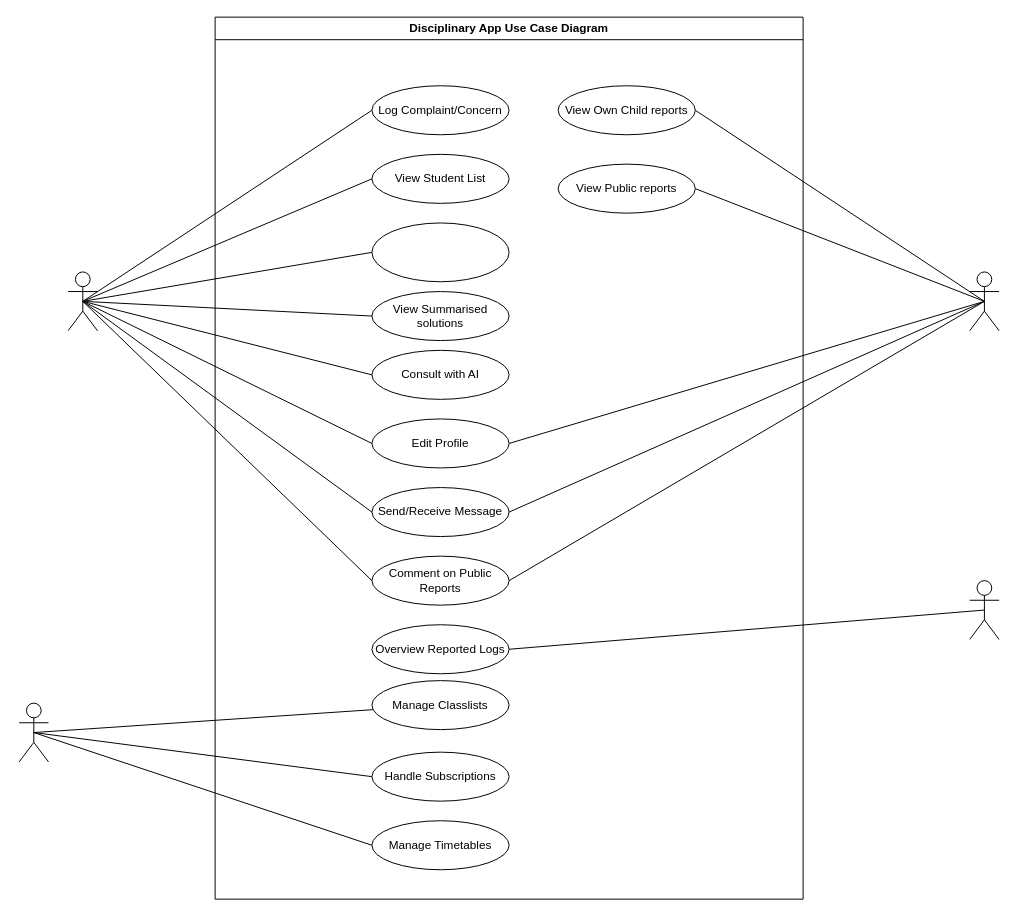
The diagram is 1021 pixels wide and 916 high, and some of its shapes have lost their labels. Each missing label, with the centre of its shape:
"Admin" belongs at (x=33, y=732).
"Parent" belongs at (x=984, y=301).
"Principal" belongs at (x=984, y=609).
"Select distribution method (Parent/Global/Both)" belongs at (x=440, y=252).
"Teacher" belongs at (x=82, y=301).
